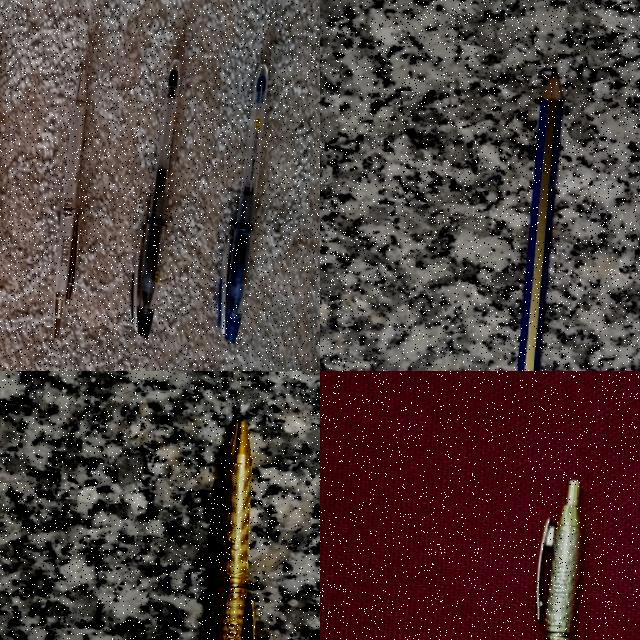pen: (214, 0, 276, 345), (133, 31, 185, 336)
pencil: (518, 71, 561, 370)
signature pen: (520, 476, 584, 640), (213, 421, 255, 639), (54, 69, 87, 338)
